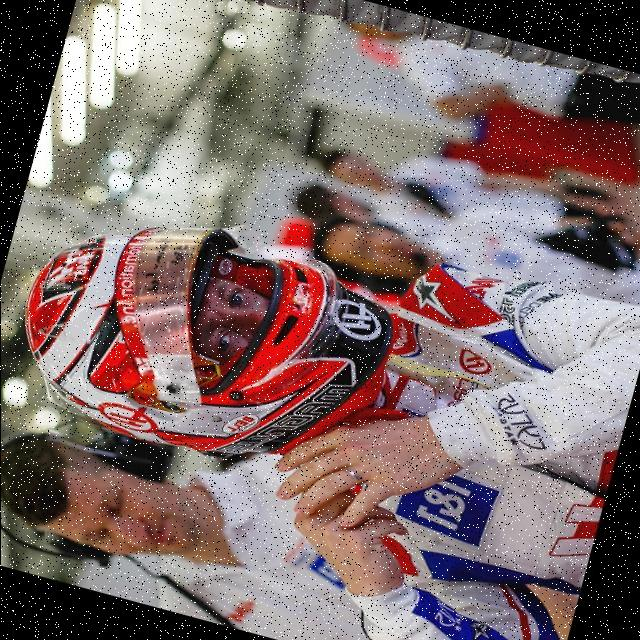Helm: (0, 176, 415, 501)
